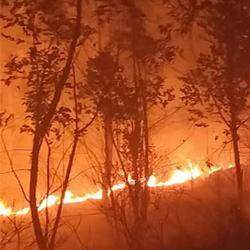fire: (152, 165, 200, 186), (47, 188, 106, 203), (2, 200, 53, 214)
